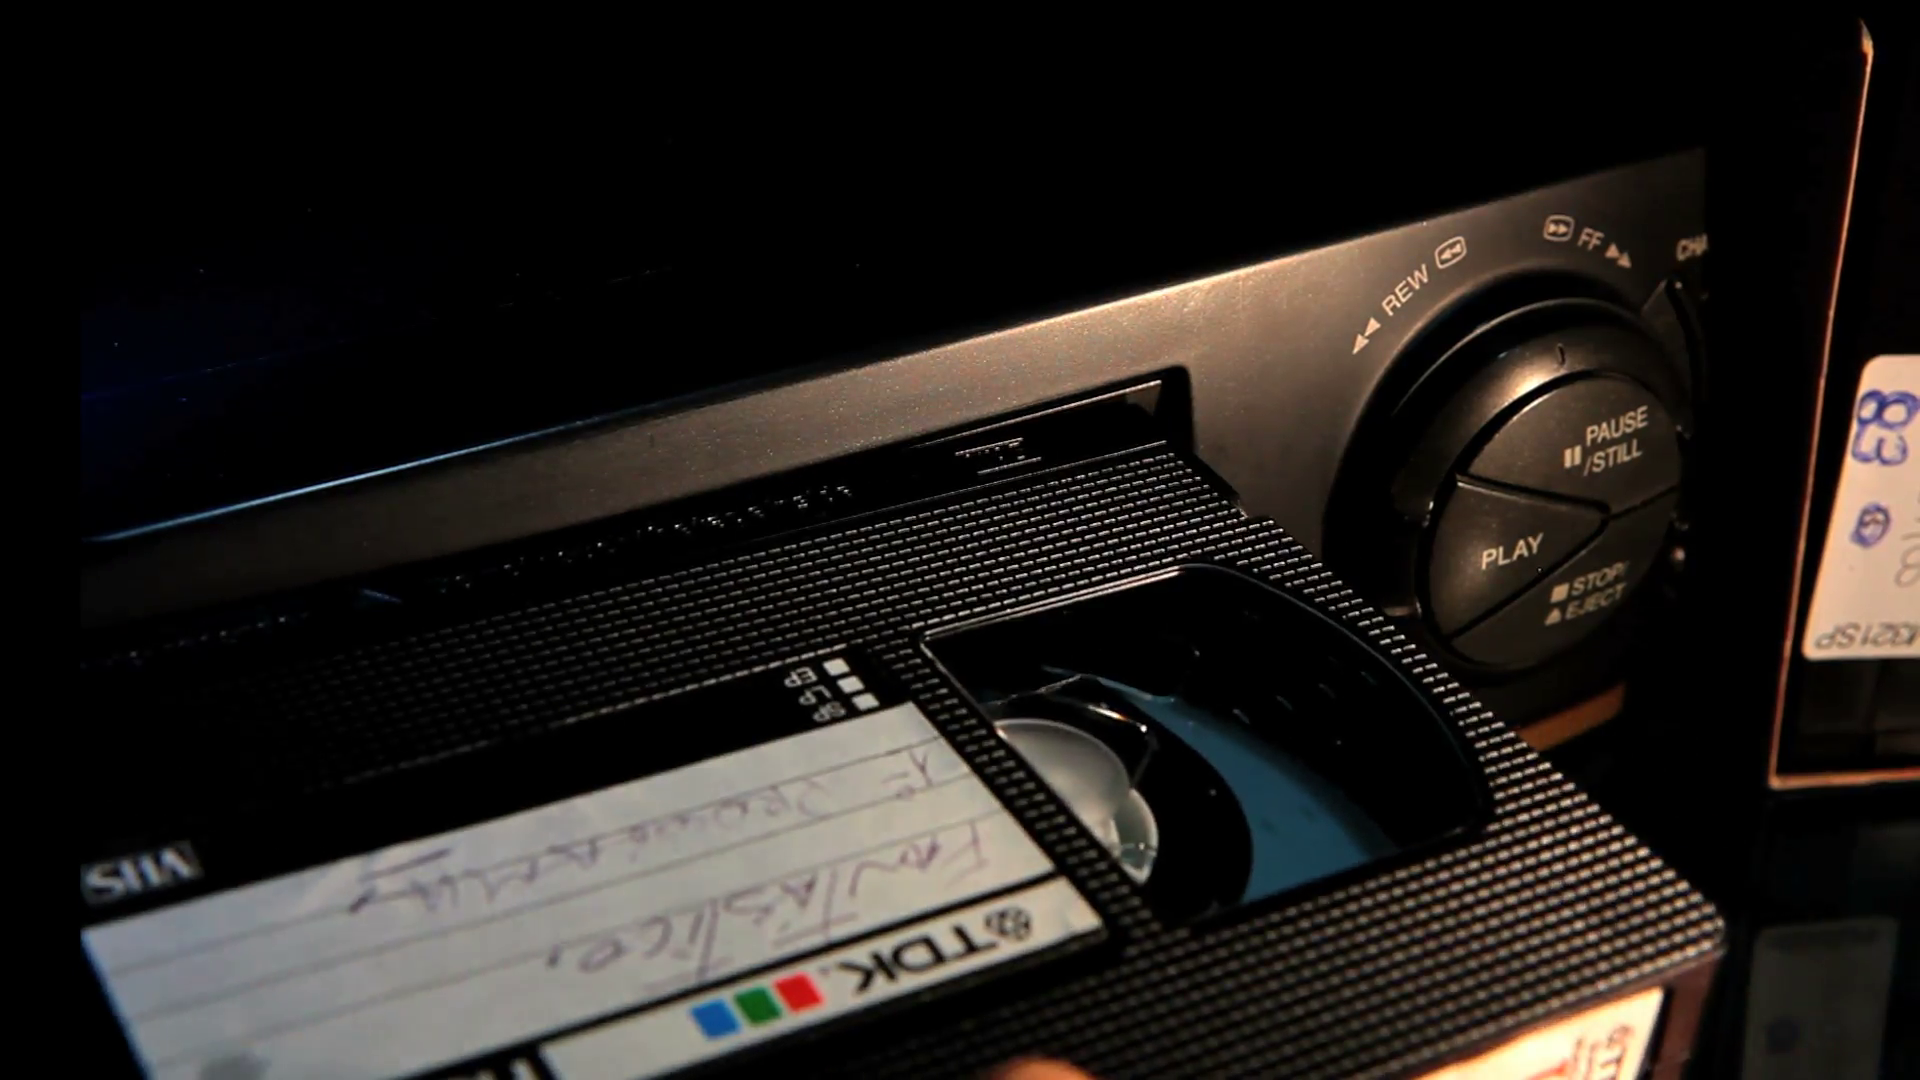Nonrec_Other: (13, 276, 1811, 1040)
